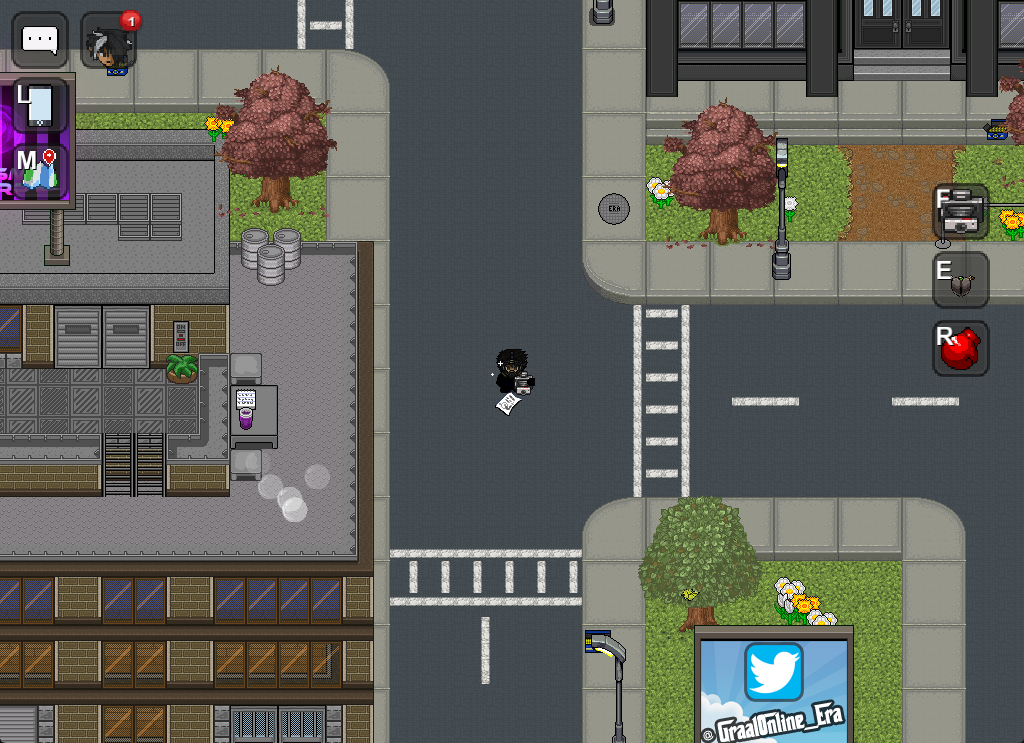era_rima-jobs-trash-paper: (493, 387, 525, 419)
